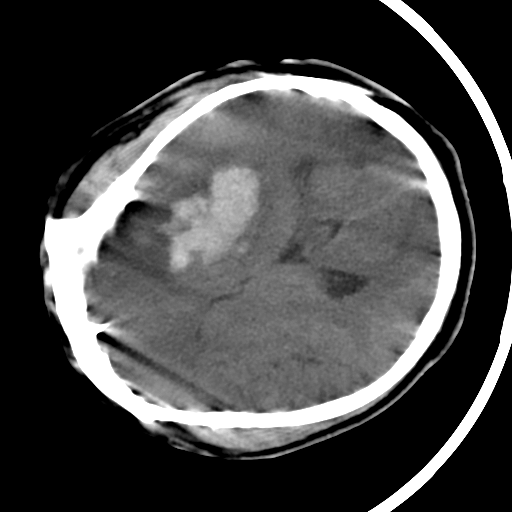a: (144, 149, 276, 285)
